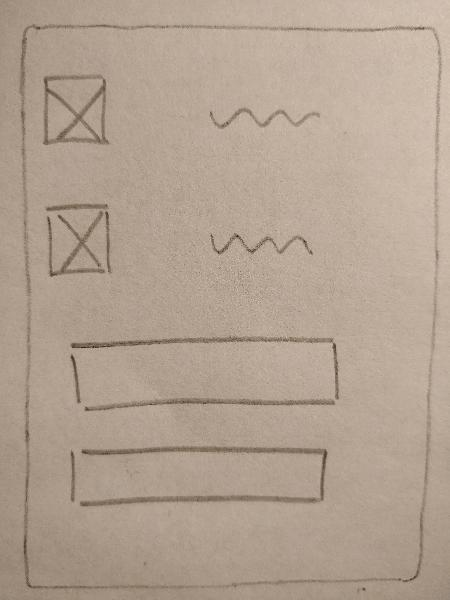image: (35, 70, 115, 148), (37, 201, 117, 279)
text: (201, 98, 326, 134), (197, 224, 322, 260)
text_input: (61, 332, 353, 413), (60, 441, 332, 508)
